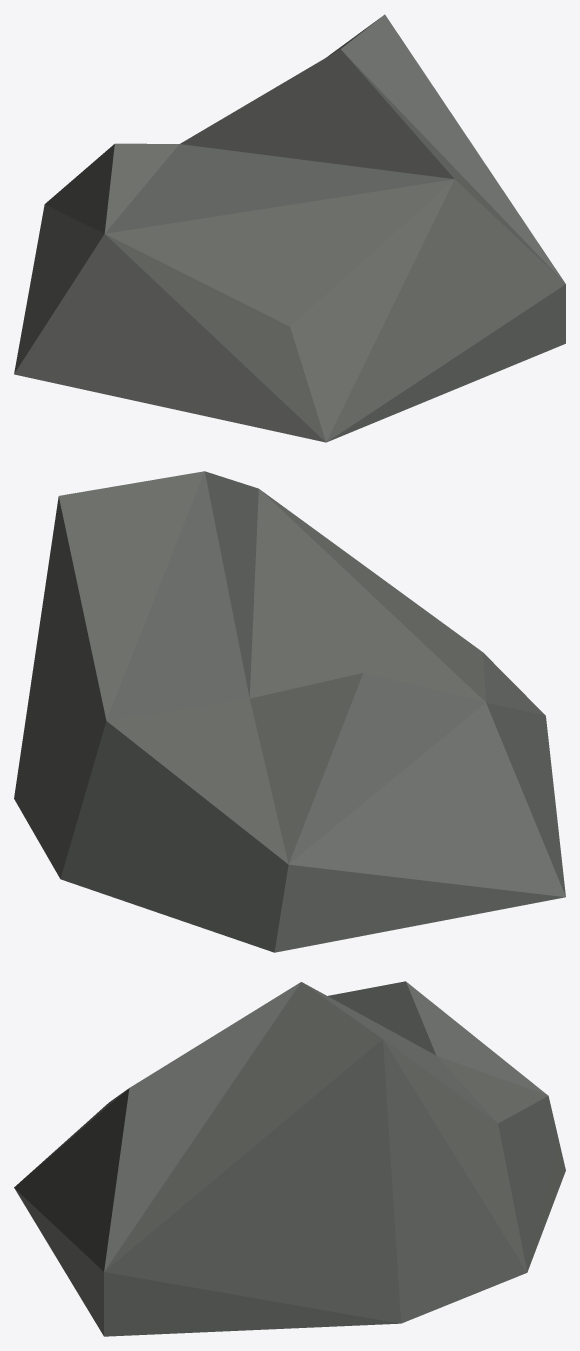
The model's file is Rocks_005.fbx.
3 views of the same model, one above another, from view 1: azimuth 30°, elevation 25°; view 2: azimuth 150°, elevation 25°; view 3: azimuth 270°, elevation 25° (orthographic). The views are drawn at different scales.
Parts seen in each view (by area): view 1: Rocks_005; view 2: Rocks_005; view 3: Rocks_005.
Boxes of the visible parts, box(x1,y1,x2,y2) form: Rocks_005: box(14, 14, 565, 442); Rocks_005: box(14, 471, 565, 952); Rocks_005: box(14, 981, 565, 1336).
Size of the model in its own units: 42.92 by 24.02 by 42.38.
